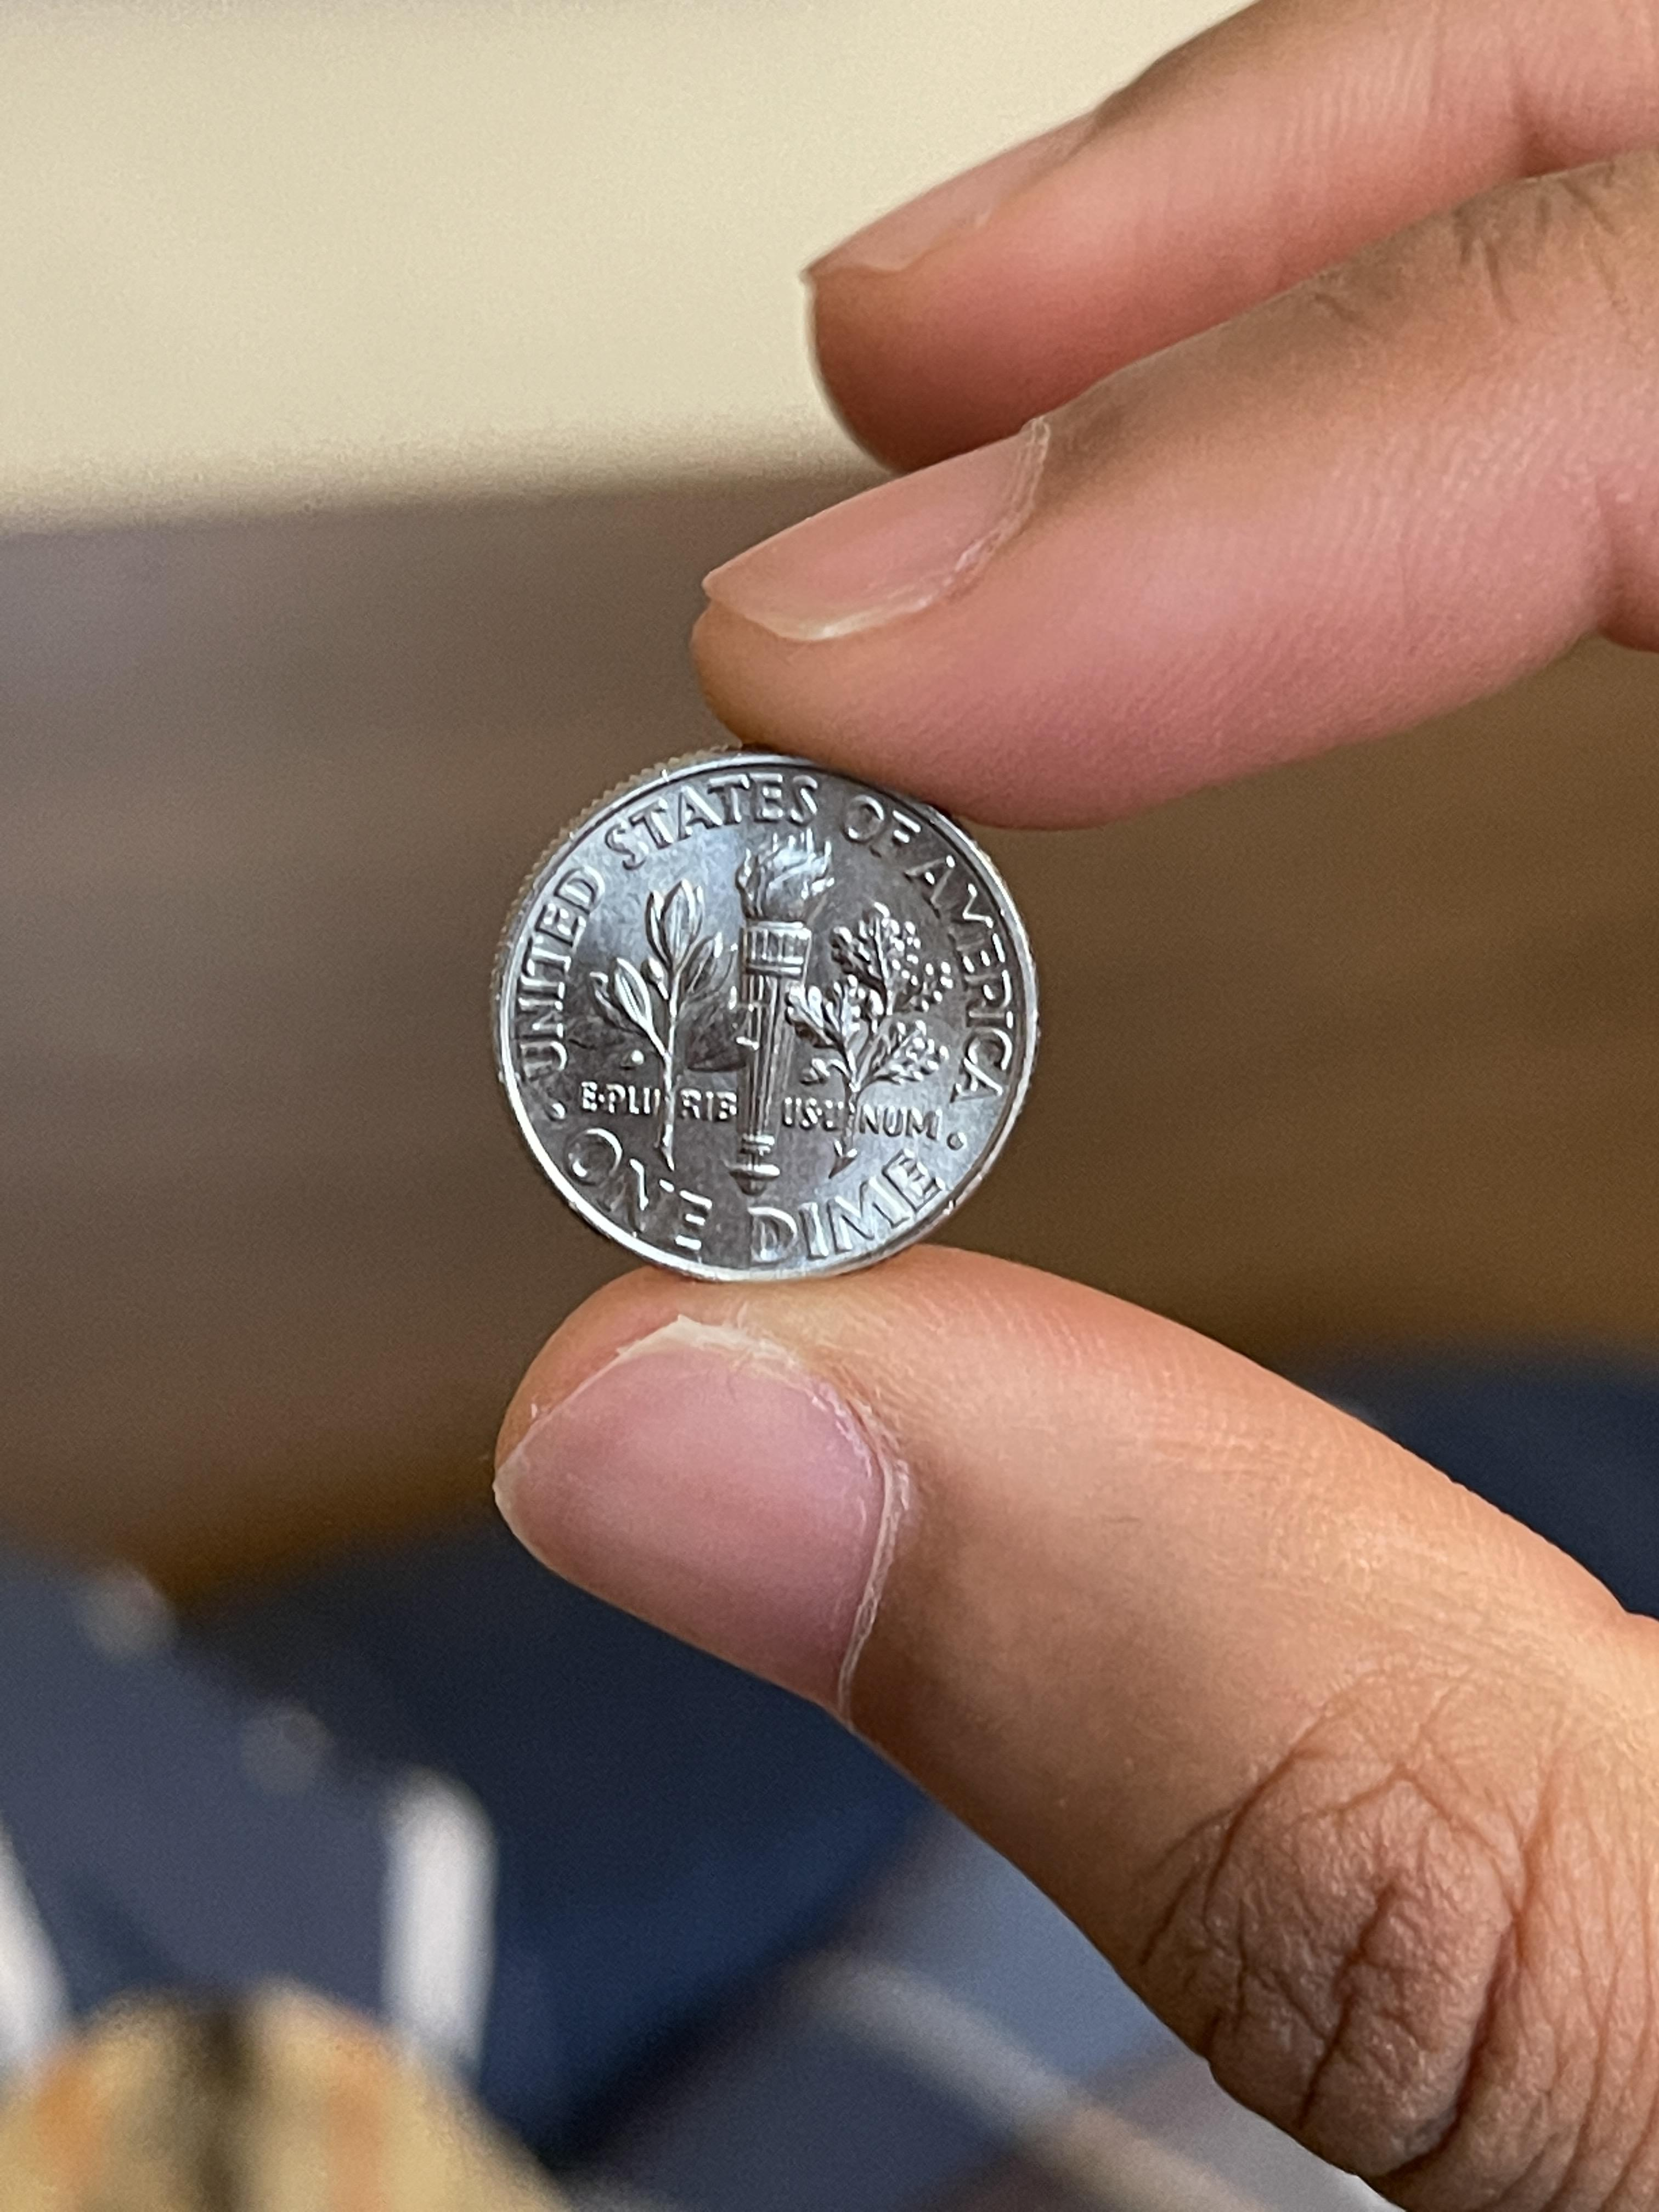Dime: (477, 742, 1051, 1287)
